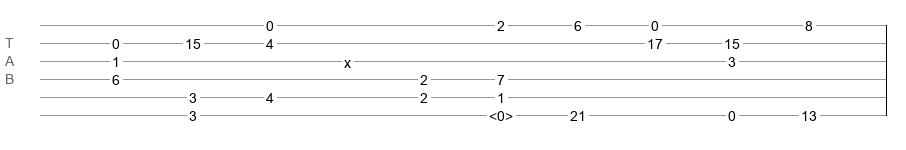0: (112, 36, 120, 46), (266, 18, 274, 28), (651, 18, 659, 28), (728, 108, 736, 118)
1: (112, 54, 120, 64), (497, 90, 505, 100)
13: (801, 108, 817, 118)
15: (185, 36, 201, 46), (724, 36, 740, 46)
17: (647, 36, 663, 46)
2: (420, 90, 428, 100), (420, 72, 428, 82), (497, 18, 505, 28)
21: (570, 108, 586, 118)
3: (189, 90, 197, 100), (189, 108, 197, 118), (728, 54, 736, 64)
4: (266, 36, 274, 46), (266, 90, 274, 100)
6: (112, 72, 120, 82), (574, 18, 582, 28)
7: (497, 72, 505, 82)
8: (805, 18, 813, 28)
harmonic: (489, 108, 513, 118)
x: (344, 55, 351, 63)
